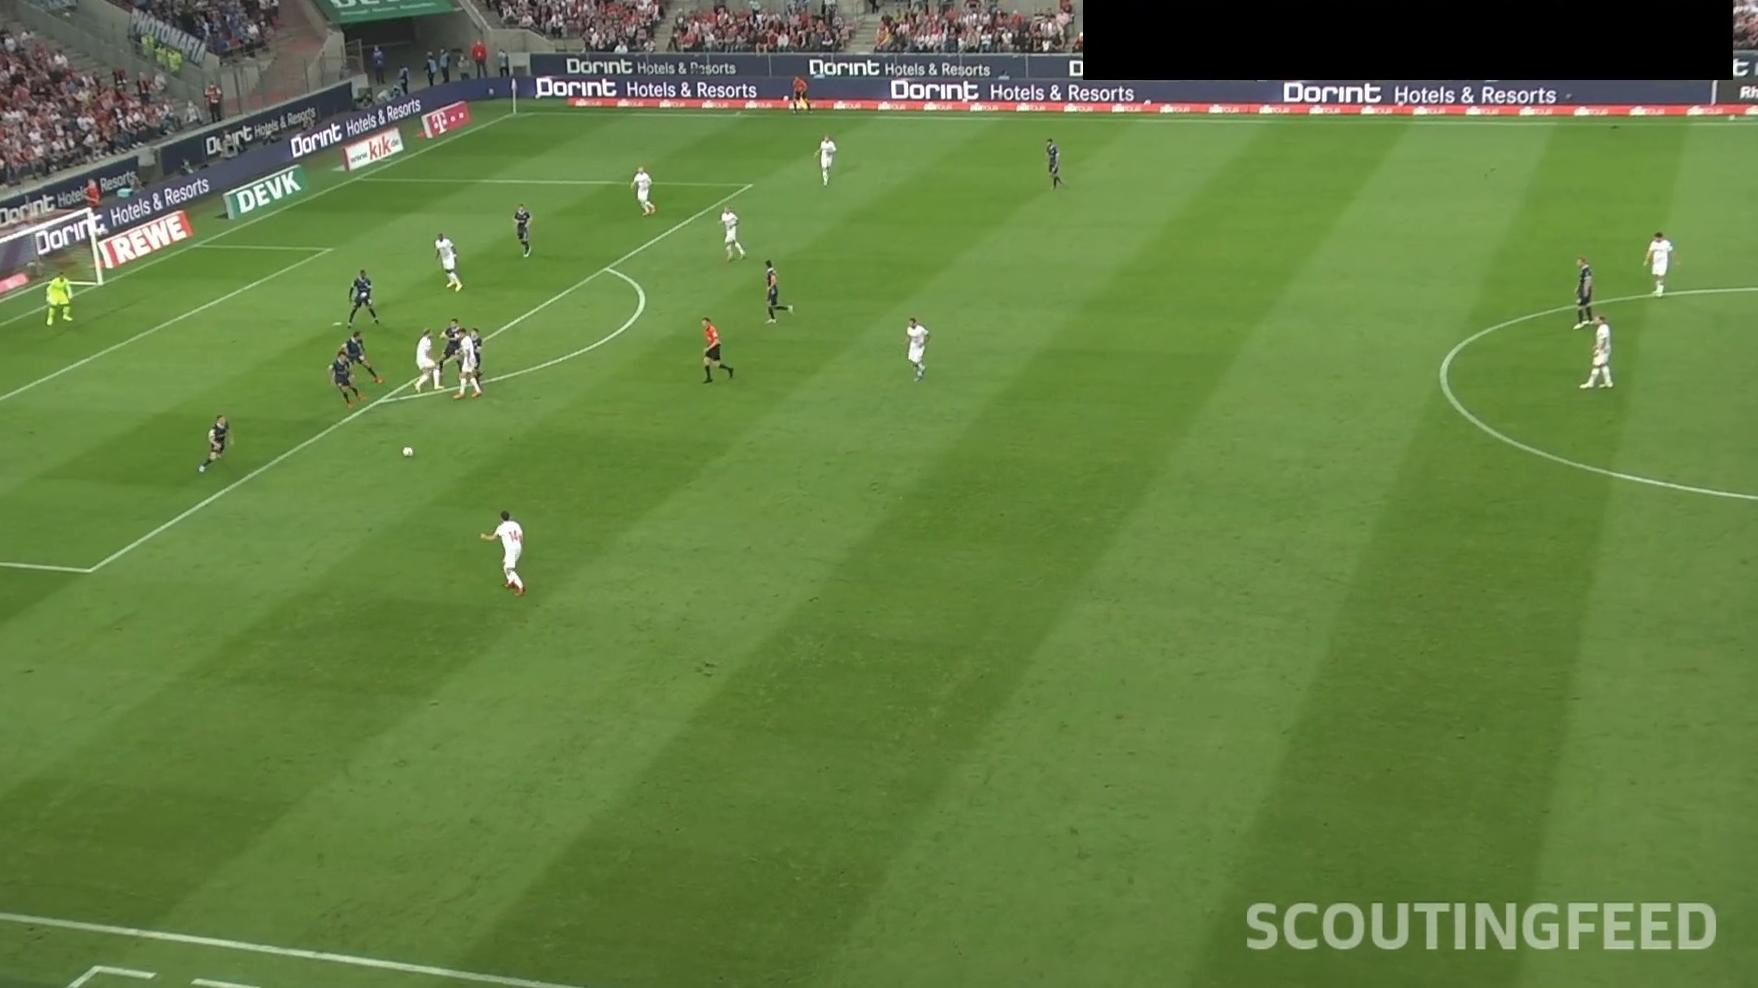ball: (401, 444, 415, 460)
